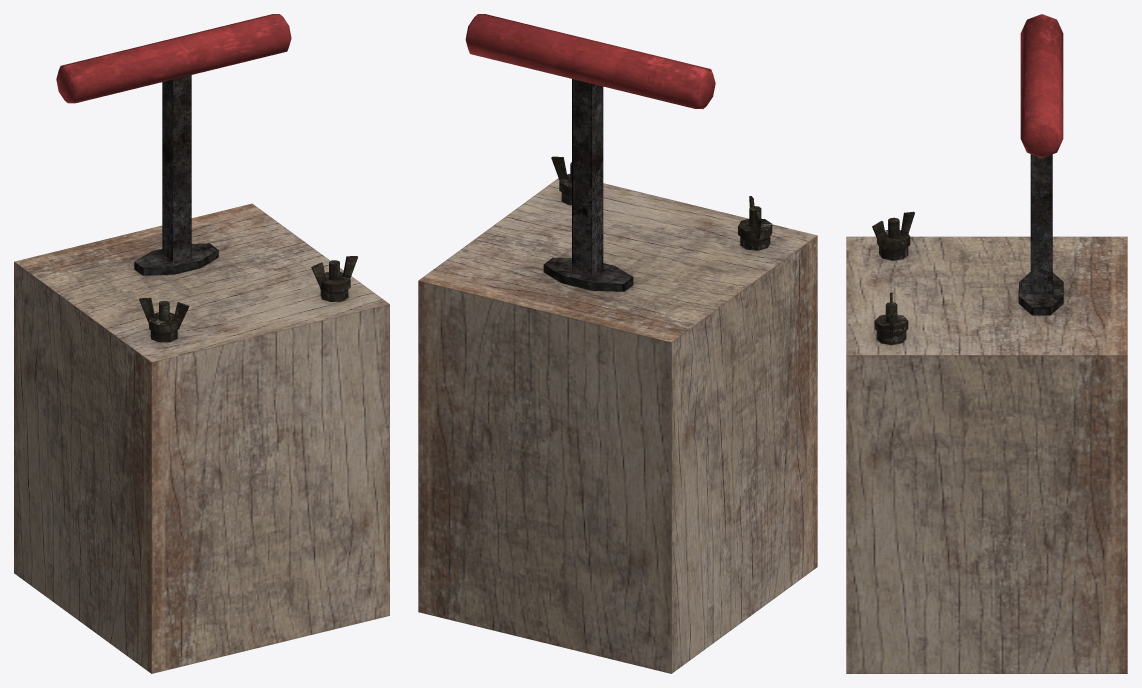
File: plunger.FBX
3 renders of one model, left to right at view 1: azimuth 30°, elevation 25°; view 2: azimuth 150°, elevation 25°; view 3: azimuth 270°, elevation 25°, orthographic. The views are drawn at different scales.
Visible parts, largest first — view 1: plunger_box, plunger_handle; view 2: plunger_box, plunger_handle; view 3: plunger_box, plunger_handle.
Part boxes in pixels (x1,y1,x2,y2): plunger_box: (14,203,389,673); plunger_handle: (56,14,291,261); plunger_box: (418,156,817,673); plunger_handle: (465,14,715,277); plunger_box: (846,211,1127,673); plunger_handle: (1020,14,1063,293).
Size of the model in its own units: 64 by 137 by 64.
